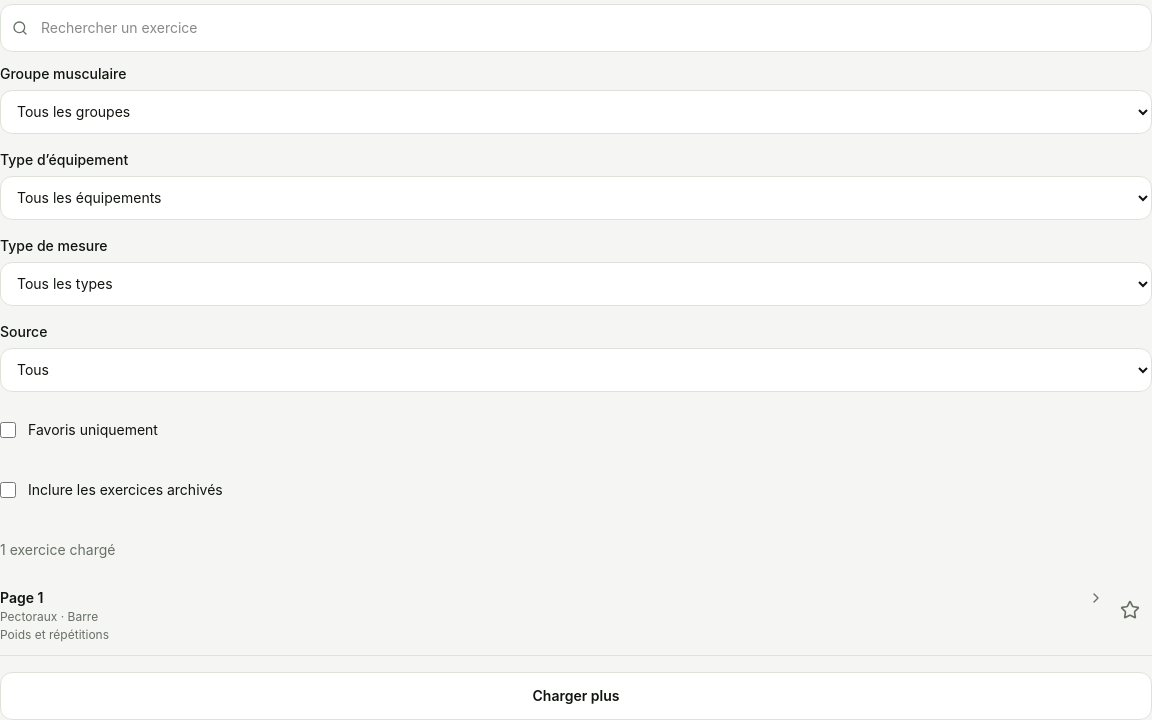
Test: ExercisesPage › loads the next page without duplicates
The image size is (1152, 720).
(page scrolled)
Check: the heading "Page 1" is shown, box [0,588,43,607]
Click the button "Charger plus" at (576,696), box [0,672,1151,719]
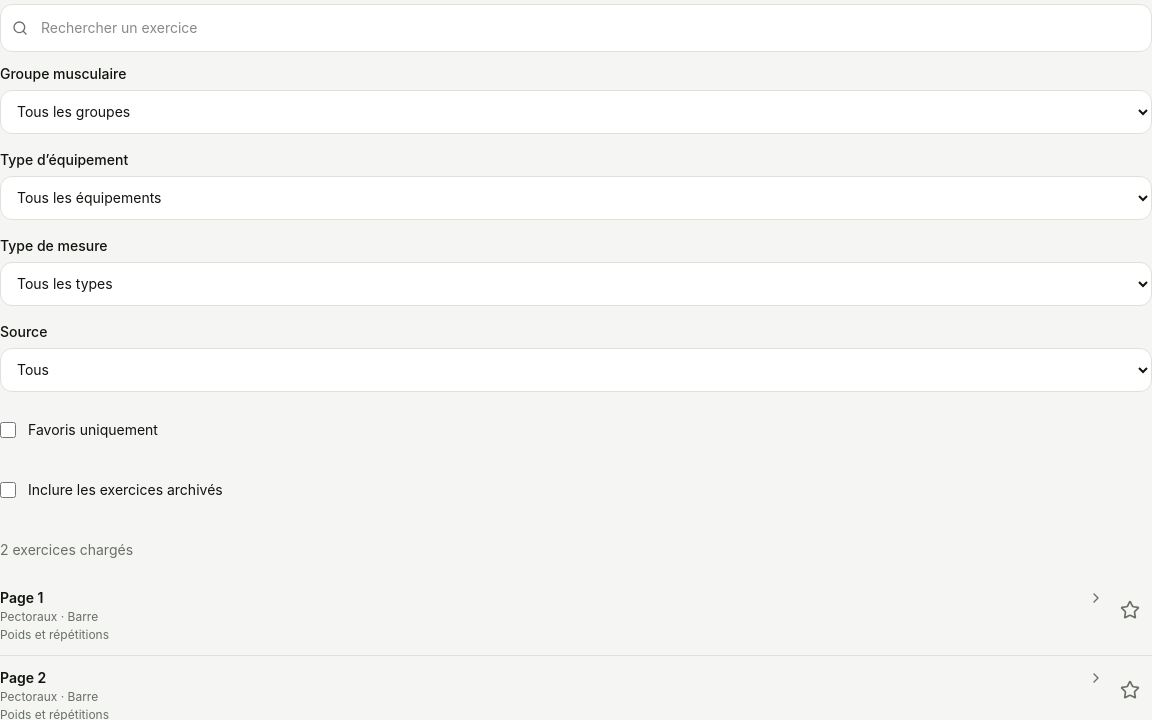
Check: the heading "Page 1" is shown, box [0,588,43,607]
Check: the heading "Page 2" is shown, box [0,668,46,687]
Check: the number of headings "Page 1" is 2, box [0,588,43,607]; [0,668,46,687]
